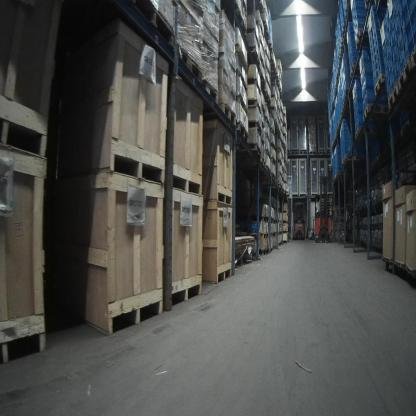forklift: (314, 175, 331, 244), (293, 202, 306, 241)
pallet: (0, 94, 49, 160), (108, 286, 164, 336), (123, 1, 176, 50), (110, 138, 164, 186), (1, 312, 46, 362), (176, 44, 203, 85), (172, 274, 202, 308), (173, 166, 202, 196), (363, 102, 387, 125), (219, 101, 237, 128), (398, 59, 413, 90), (203, 79, 219, 106), (217, 186, 234, 208), (245, 72, 261, 95), (235, 43, 247, 71), (217, 261, 232, 283), (236, 8, 247, 38), (388, 84, 400, 110), (376, 72, 387, 98), (247, 98, 262, 115), (247, 28, 259, 49), (355, 31, 368, 50), (236, 70, 247, 92), (237, 122, 248, 143), (248, 121, 262, 137), (236, 95, 247, 114), (248, 47, 259, 65), (257, 67, 266, 88), (341, 155, 358, 164), (251, 142, 261, 156), (249, 216, 268, 223), (250, 232, 267, 239), (410, 48, 416, 67), (263, 21, 269, 40), (342, 87, 348, 105), (355, 125, 362, 140), (350, 63, 356, 79), (259, 248, 270, 256), (267, 38, 273, 52), (260, 156, 266, 170), (265, 77, 271, 90), (265, 63, 270, 78), (341, 23, 346, 38), (269, 125, 275, 137), (270, 171, 276, 182), (266, 91, 271, 104), (270, 143, 276, 153), (365, 0, 370, 10), (266, 149, 271, 159), (262, 103, 265, 119), (271, 157, 276, 166), (266, 133, 270, 143), (266, 116, 269, 129), (266, 166, 270, 175), (299, 150, 307, 154), (291, 151, 299, 155), (318, 151, 326, 154), (309, 151, 316, 154), (287, 151, 291, 156), (278, 220, 282, 224), (278, 231, 282, 235), (271, 219, 274, 224), (271, 233, 273, 238)
pallet_truck: (310, 216, 315, 240)
small_load_carrier: (397, 32, 409, 62), (395, 15, 407, 41), (360, 47, 371, 72), (362, 75, 373, 99), (359, 65, 372, 85), (393, 29, 402, 55), (363, 88, 374, 109), (394, 1, 403, 26), (383, 10, 390, 38), (390, 17, 398, 41), (383, 42, 391, 63), (394, 51, 402, 72), (388, 2, 396, 23), (385, 55, 392, 78), (386, 69, 393, 92), (390, 47, 397, 69), (386, 32, 393, 51), (390, 64, 397, 82)
